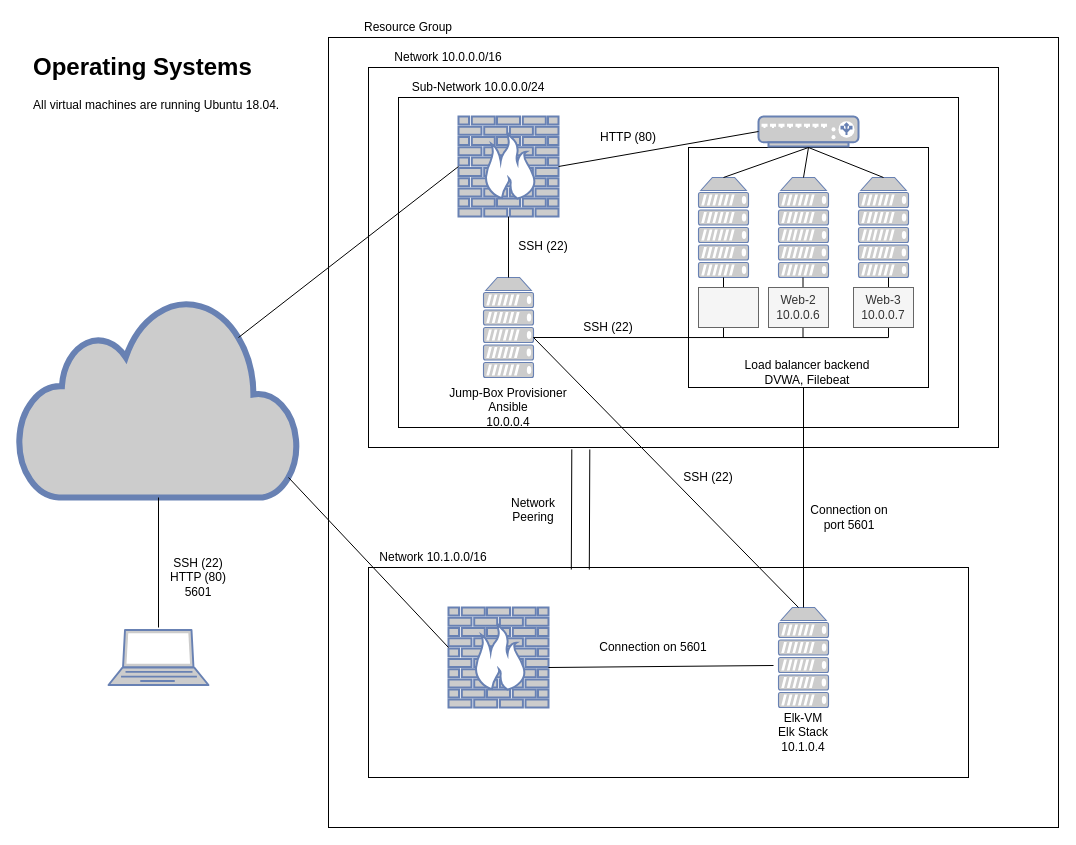
The diagram is 1076 pixels wide and 845 high, and some of its shapes have lost their labels. The shapes that lost their labels are listed below. From the top down, each one's centre as x and y in pixels, then its label:
At [728,307]: "Web-1 10.0.0.5".
At [158,397]: "Internet".
